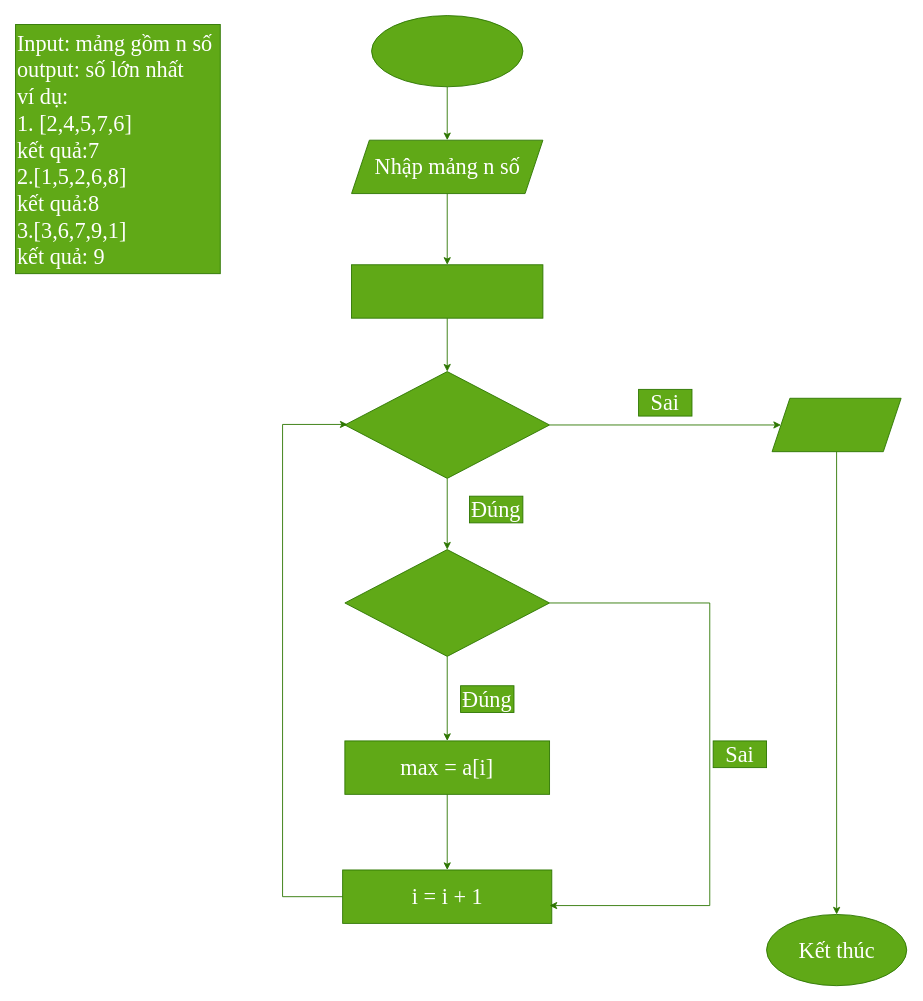
The diagram is 923 pixels wide and 1001 high, and some of its shapes have lost their labels. The centre of each missing label's shape, as x and y in pixels:
"a[i]>max" goes at point 447,602.
"Bắt đầu" goes at point 447,51.
"i<= n" goes at point 447,424.
"in ra max" goes at point 836,424.
"max a[1]; i = 2" goes at point 447,291.
